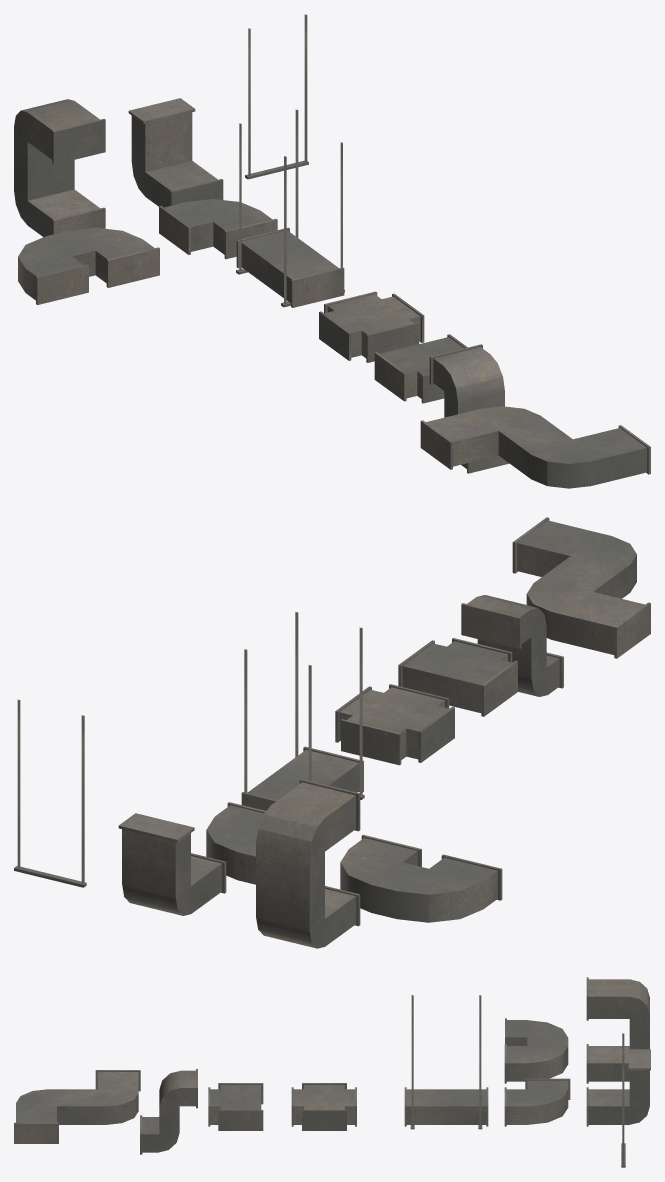
File: ventilation constructor.fbx
3 renders of one model, top to bottom at view 1: azimuth 30°, elevation 25°; view 2: azimuth 150°, elevation 25°; view 3: azimuth 270°, elevation 25°, orthographic. The views are drawn at different scales.
Visible parts, largest first — view 1: Cube.006, Cube.008, Cube.007, Cube.002, Cube.003, Cube, Cube.001, Cube.005, Cube.004, Cylinder, Cylinder.001; view 2: Cube.008, Cube.006, Cube.007, Cube.002, Cube.003, Cube.004, Cube.005, Cube, Cube.001, Cylinder, Cylinder.001; view 3: Cube.006, Cube.008, Cube.007, Cube.002, Cube, Cube.003, Cube.005, Cube.001, Cube.004, Cylinder, Cylinder.001.
Part boxes in pixels (x1=…): Cube.006: x1=420, y1=406, x2=650, y2=488; Cube.008: x1=14, y1=99, x2=105, y2=236; Cube.007: x1=18, y1=227, x2=159, y2=304; Cube.002: x1=128, y1=98, x2=223, y2=207; Cube.003: x1=319, y1=291, x2=424, y2=362; Cube: x1=236, y1=227, x2=344, y2=307; Cube.001: x1=159, y1=199, x2=277, y2=259; Cube.005: x1=429, y1=344, x2=509, y2=473; Cube.004: x1=374, y1=334, x2=467, y2=403; Cylinder: x1=236, y1=109, x2=344, y2=307; Cylinder.001: x1=245, y1=14, x2=308, y2=179; Cube.008: x1=256, y1=779, x2=360, y2=948; Cube.006: x1=512, y1=517, x2=650, y2=658; Cube.007: x1=340, y1=834, x2=502, y2=922; Cube.002: x1=118, y1=813, x2=226, y2=915; Cube.003: x1=335, y1=684, x2=454, y2=765; Cube.004: x1=398, y1=638, x2=517, y2=716; Cube.005: x1=461, y1=595, x2=563, y2=696; Cube: x1=241, y1=746, x2=363, y2=810; Cube.001: x1=206, y1=802, x2=265, y2=884; Cylinder: x1=244, y1=612, x2=364, y2=799; Cylinder.001: x1=14, y1=699, x2=86, y2=887; Cube.006: x1=14, y1=1070, x2=140, y2=1143; Cube.008: x1=586, y1=977, x2=649, y2=1083; Cube.007: x1=504, y1=1018, x2=568, y2=1083; Cube.002: x1=586, y1=1049, x2=650, y2=1126; Cube: x1=404, y1=1087, x2=488, y2=1126; Cube.003: x1=291, y1=1083, x2=356, y2=1130; Cube.005: x1=140, y1=1069, x2=197, y2=1154; Cube.001: x1=504, y1=1078, x2=570, y2=1126; Cube.004: x1=208, y1=1083, x2=263, y2=1130; Cylinder: x1=410, y1=995, x2=482, y2=1129; Cylinder.001: x1=621, y1=1033, x2=625, y2=1167.
Bounding box in the file's own units: 1482 × 751 × 3115.
